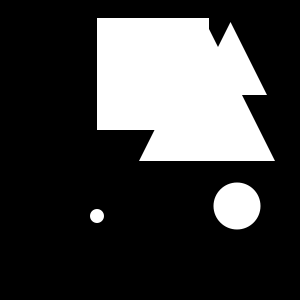circle: (97, 18, 209, 130)
rectangle: (214, 182, 260, 230), (90, 209, 104, 223)
triangle: (139, 25, 275, 161), (194, 22, 267, 95)
